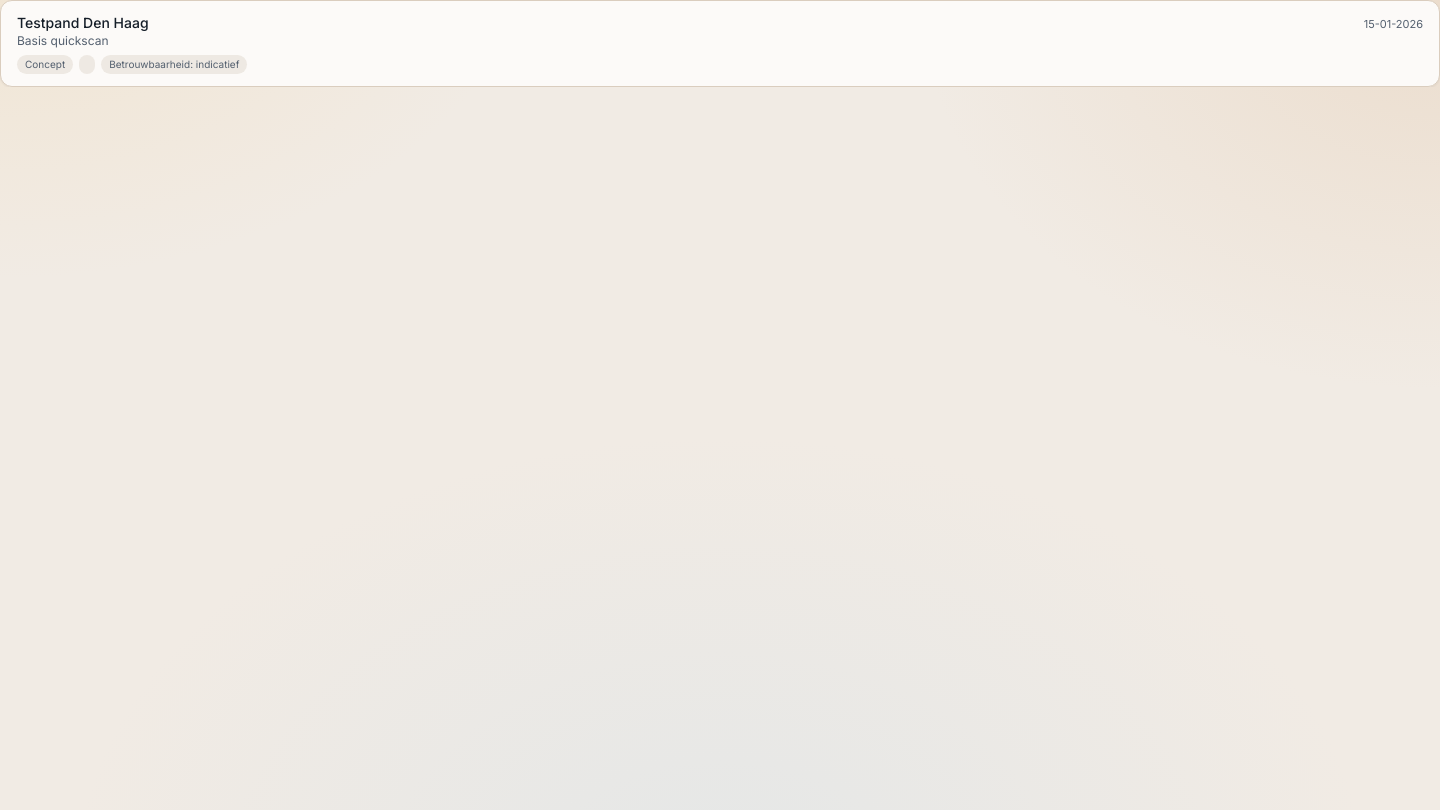
Scenario: Projecten & cases previewpaneel › opent de preview bij klikken op een rij met de juiste links
The image size is (1440, 810).
What coordinates should you click on to do the following:
click the button with test id "vr-case-rij-calc-1"
I would click on:
 (83, 22)
Its box is [1,1,1439,86].
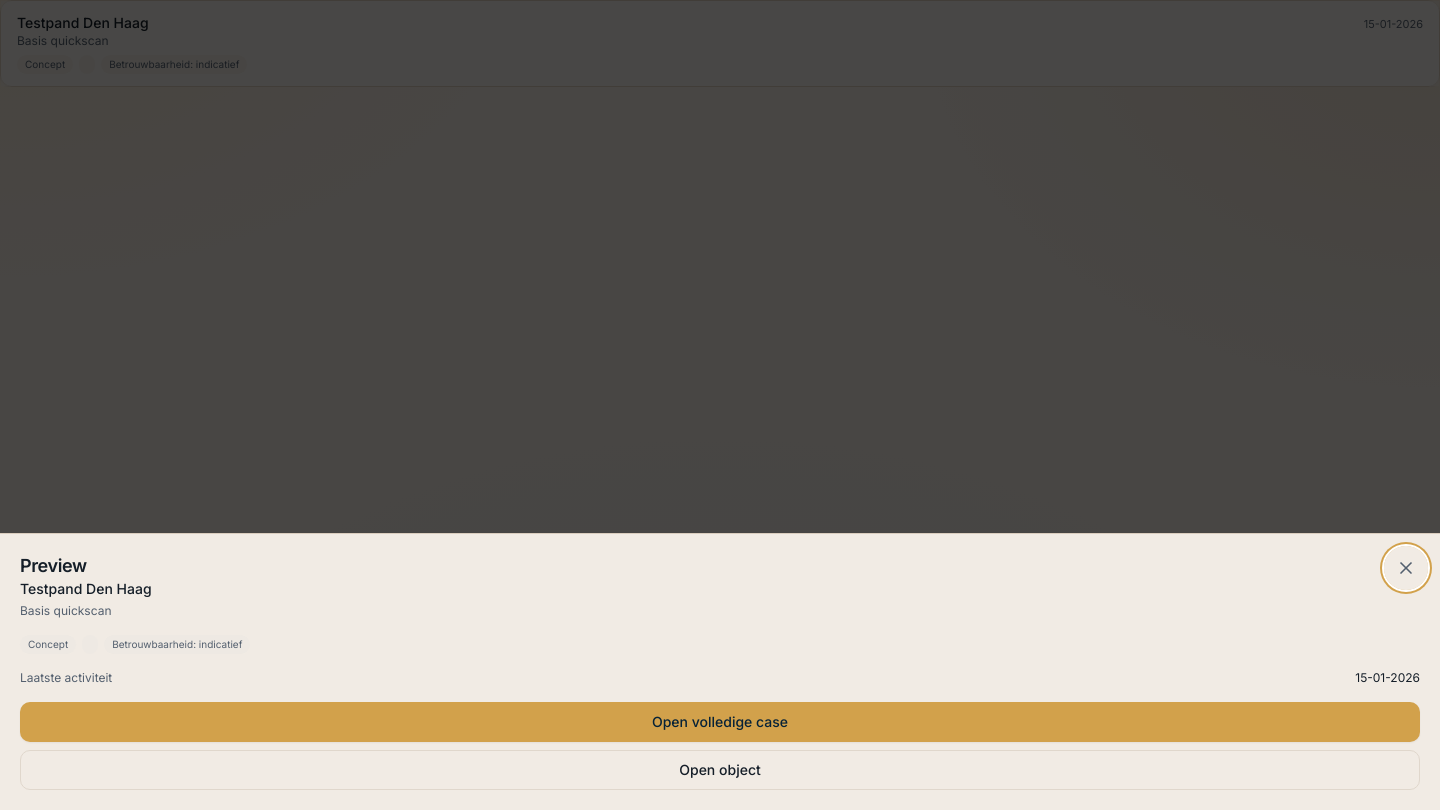
Check: the element with test id "vr-case-preview" is shown, box [20,579,1420,790]
